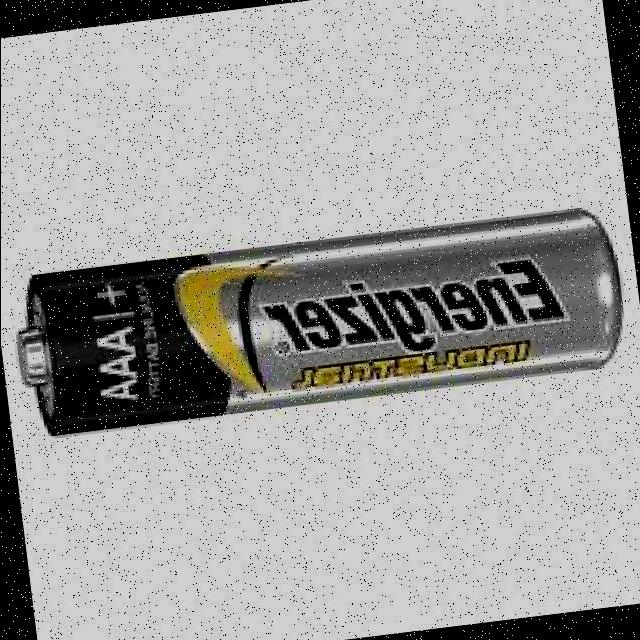AAA: (18, 206, 624, 437)
